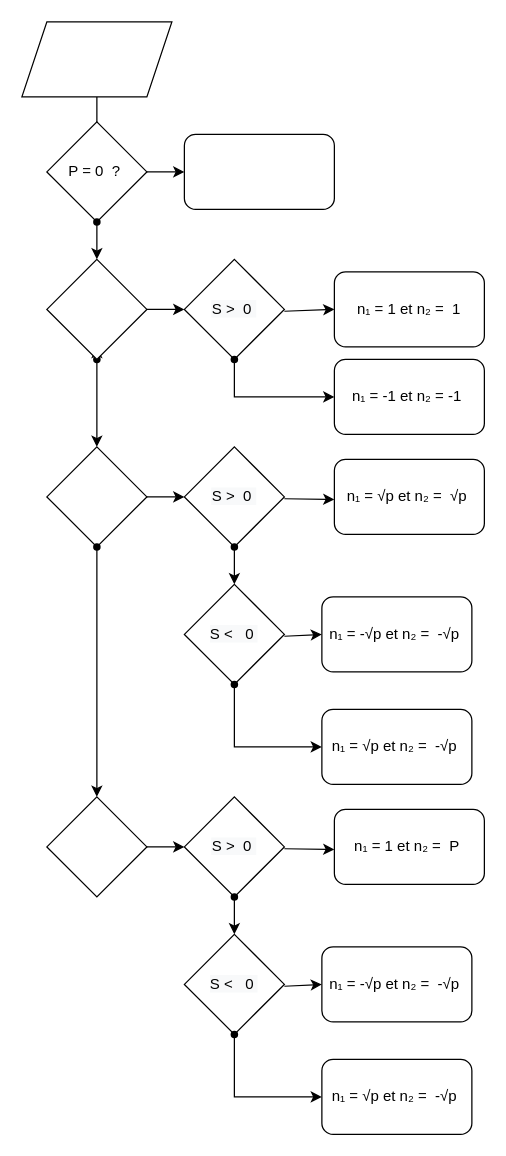
Image size: 506x1156. Some labels were removed from this diagram. The shapes that lost their labels are listed below. From the top down, each one's box as (x1, y1, x2, y2) in pixels, then its label:
(21, 21, 172, 97): Données : S et P
(183, 133, 334, 209): n₁ = 0 et n₂ = S
(46, 258, 147, 359): P = 1
(46, 446, 147, 547): P = n²
(46, 796, 147, 897): P = S -1
